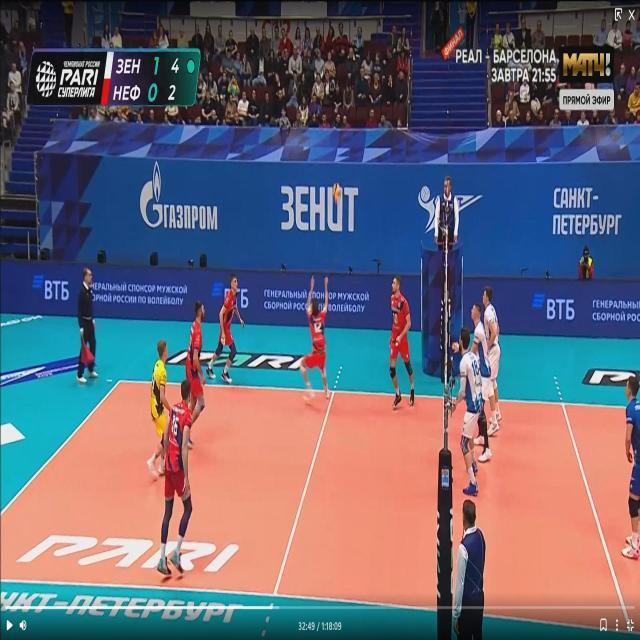volleyball: (332, 183, 342, 201)
